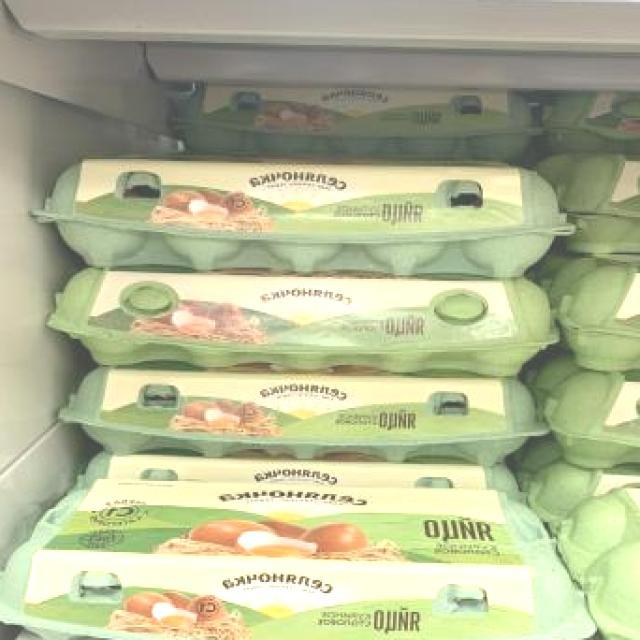Eggs: (0, 481, 590, 640), (25, 156, 578, 274), (42, 273, 566, 373), (54, 368, 556, 461), (162, 76, 544, 160), (560, 483, 640, 640), (548, 370, 640, 470), (567, 256, 640, 372), (573, 153, 640, 256), (545, 91, 640, 159)
